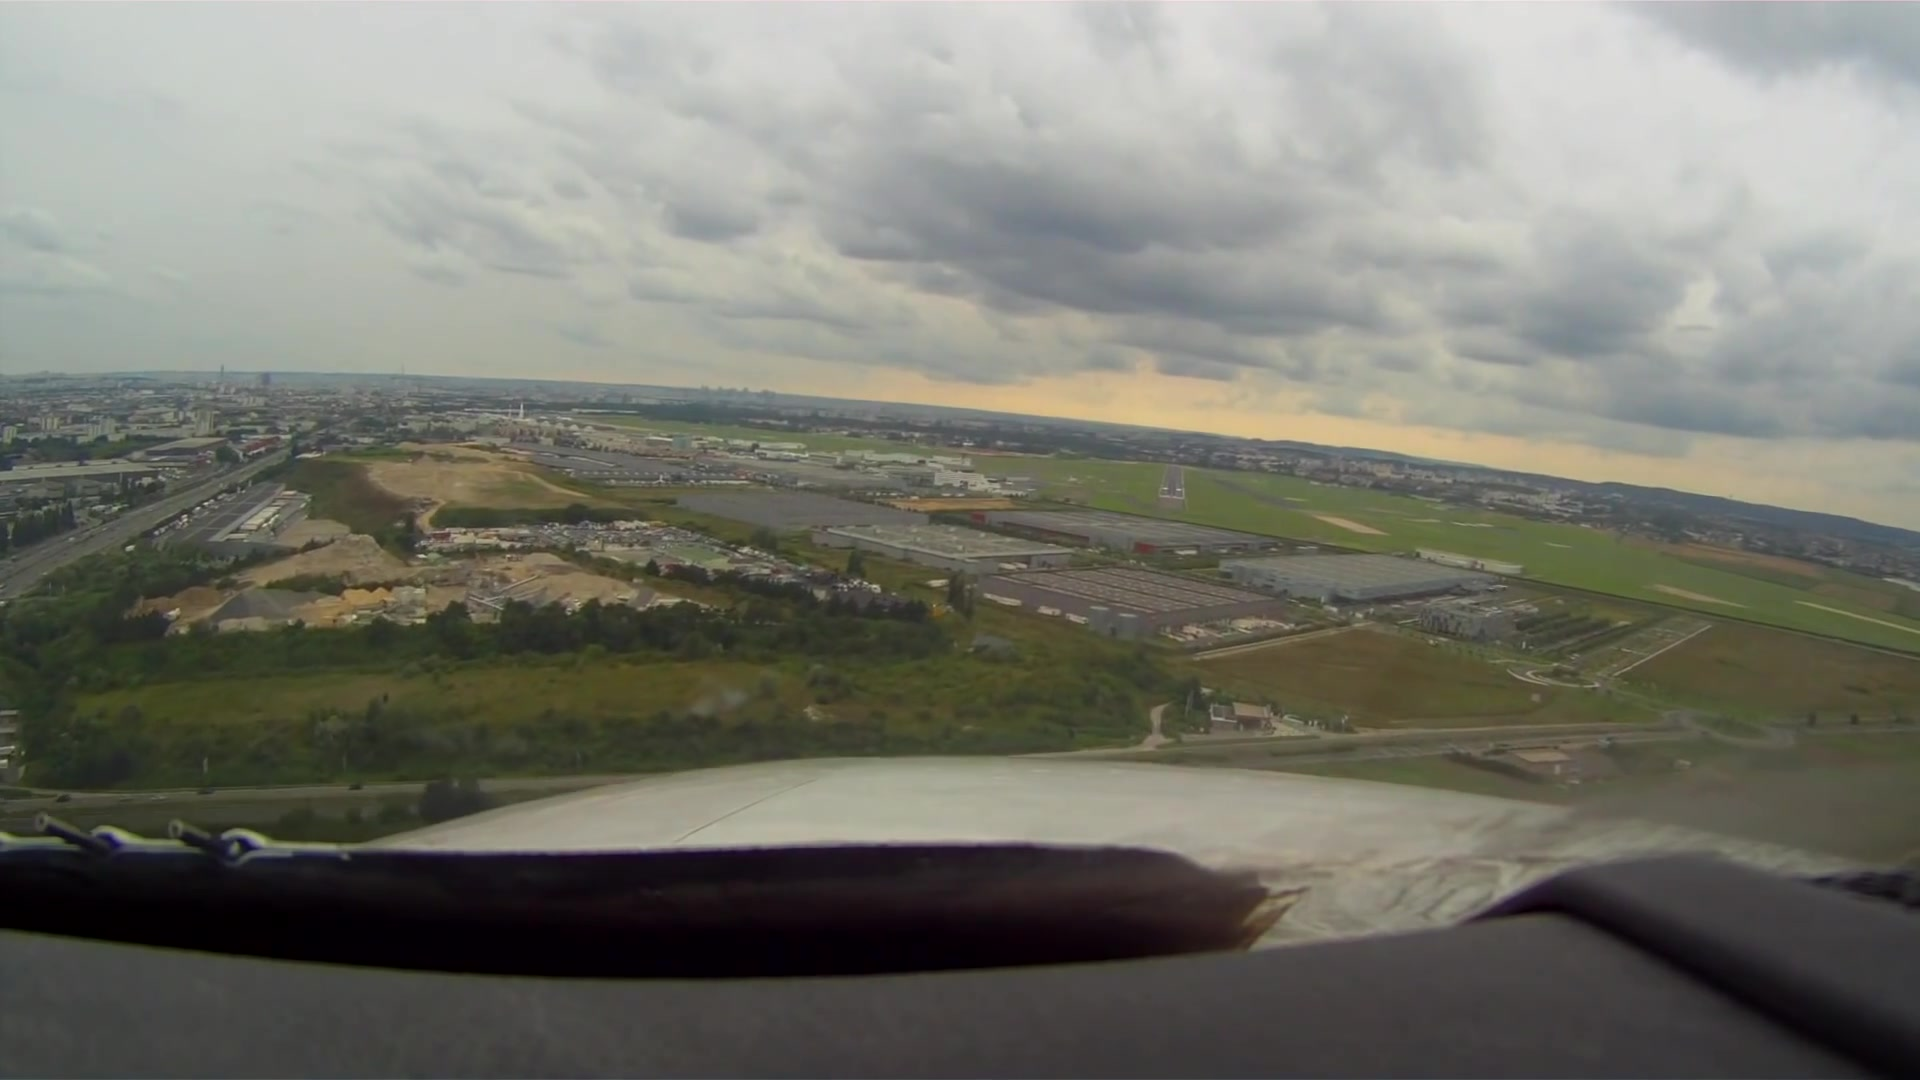runway: (1158, 462, 1185, 502)
